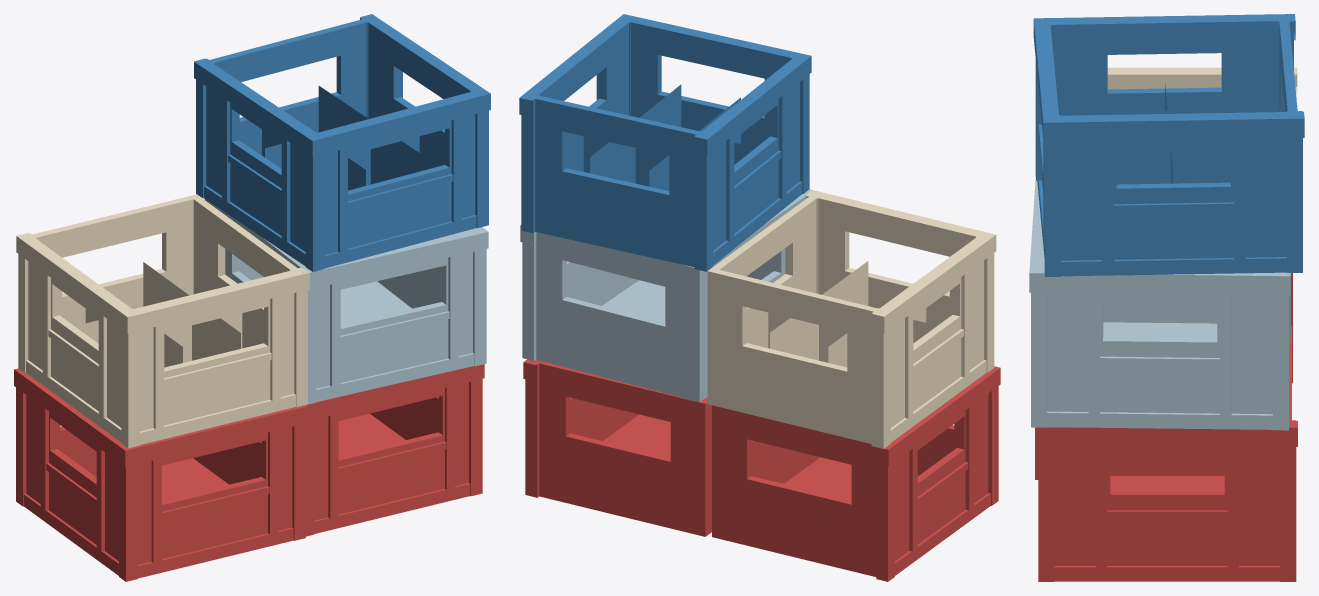
File: Prop_CrateStack_B.fbx
3 views of the same model, side by side, from view 1: azimuth 30°, elevation 25°; view 2: azimuth 150°, elevation 25°; view 3: azimuth 270°, elevation 25° (orthographic). The views are drawn at different scales.
Visible parts, largest first — view 1: Prop_CrateStack_B; view 2: Prop_CrateStack_B; view 3: Prop_CrateStack_B.
Boxes of the visible parts, x1,y1,x2,y2 form: Prop_CrateStack_B: (14,14,490,581); Prop_CrateStack_B: (519,14,1000,581); Prop_CrateStack_B: (1029,14,1304,581).
Size of the model in its own units: 1.76 by 1.8 by 0.9659.
